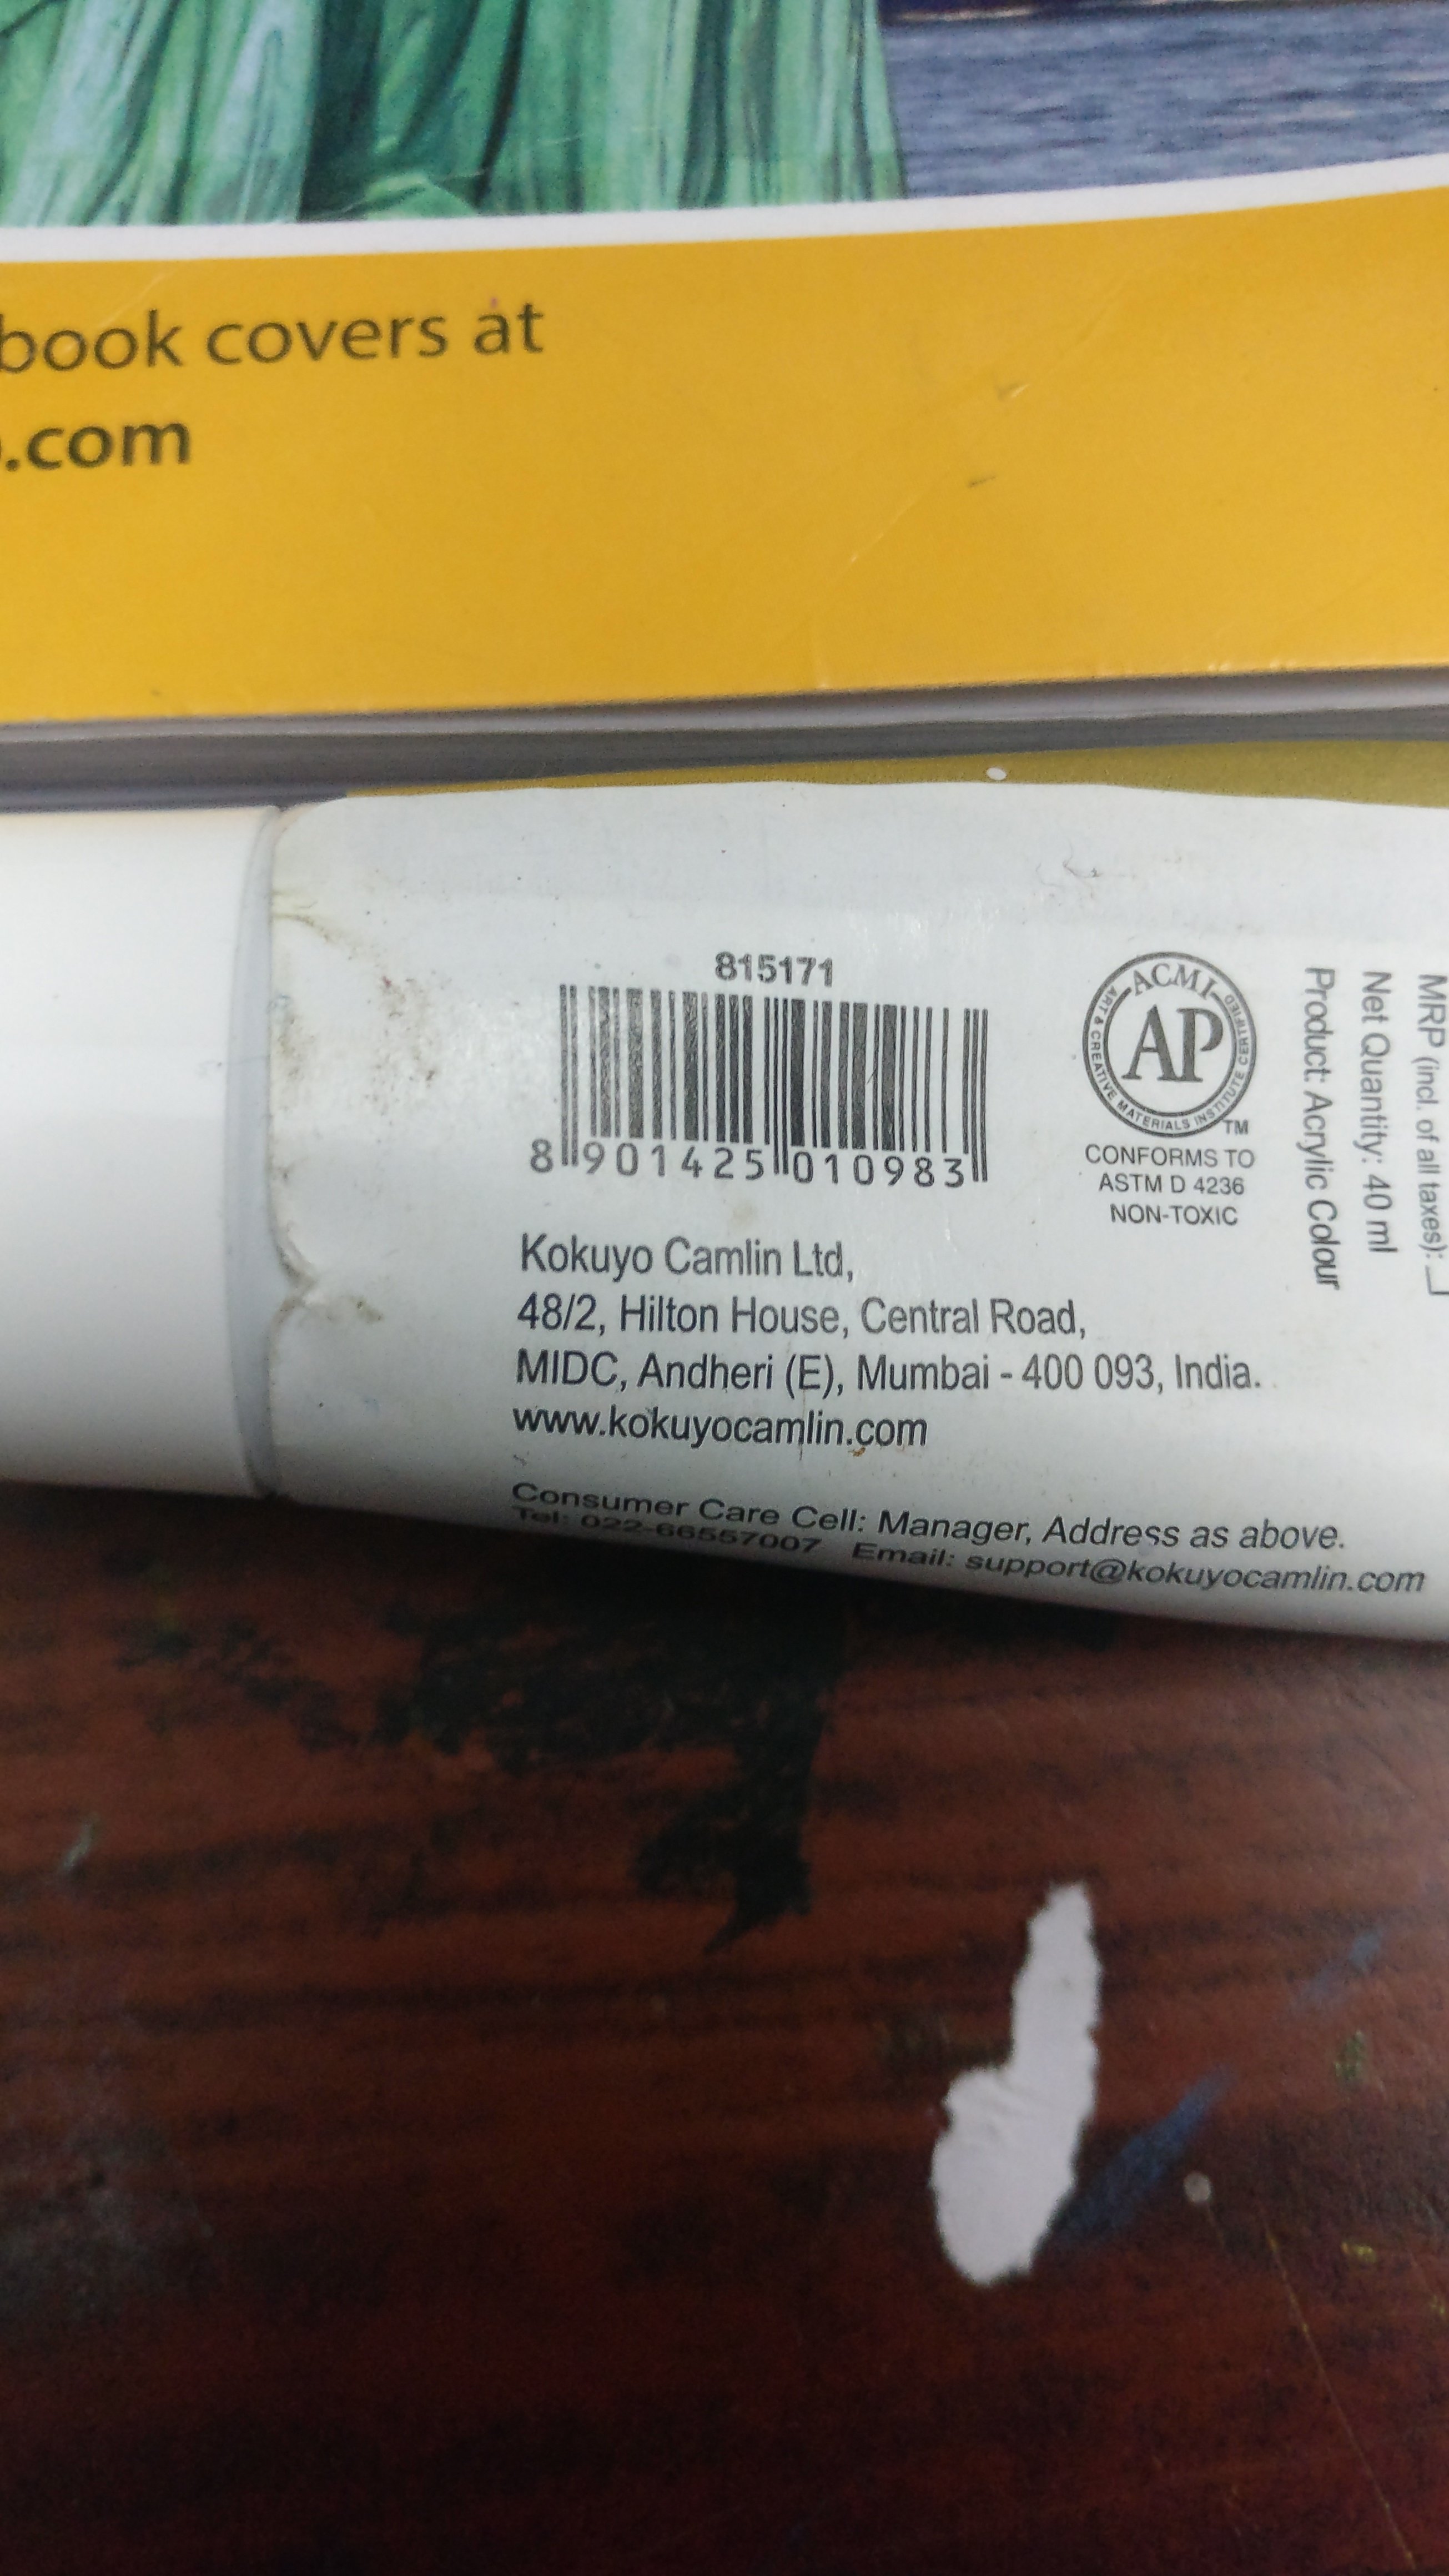barcode: (511, 950, 1014, 1201)
